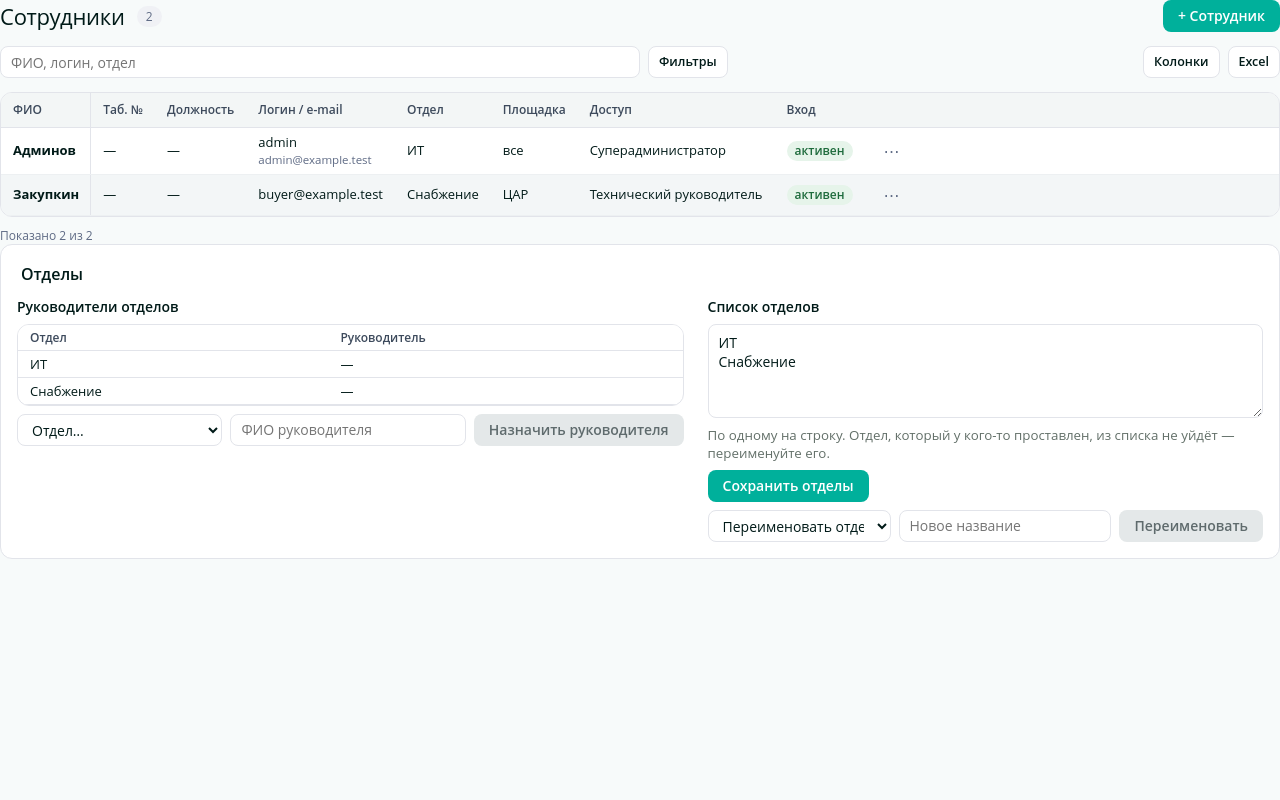
sets a new PIN from the employee form (portalStaffSave pin)
The width and height of the screenshot is (1280, 800).
Click the button named "Действия: Закупкин" at [892, 195], box [876,181,906,209]
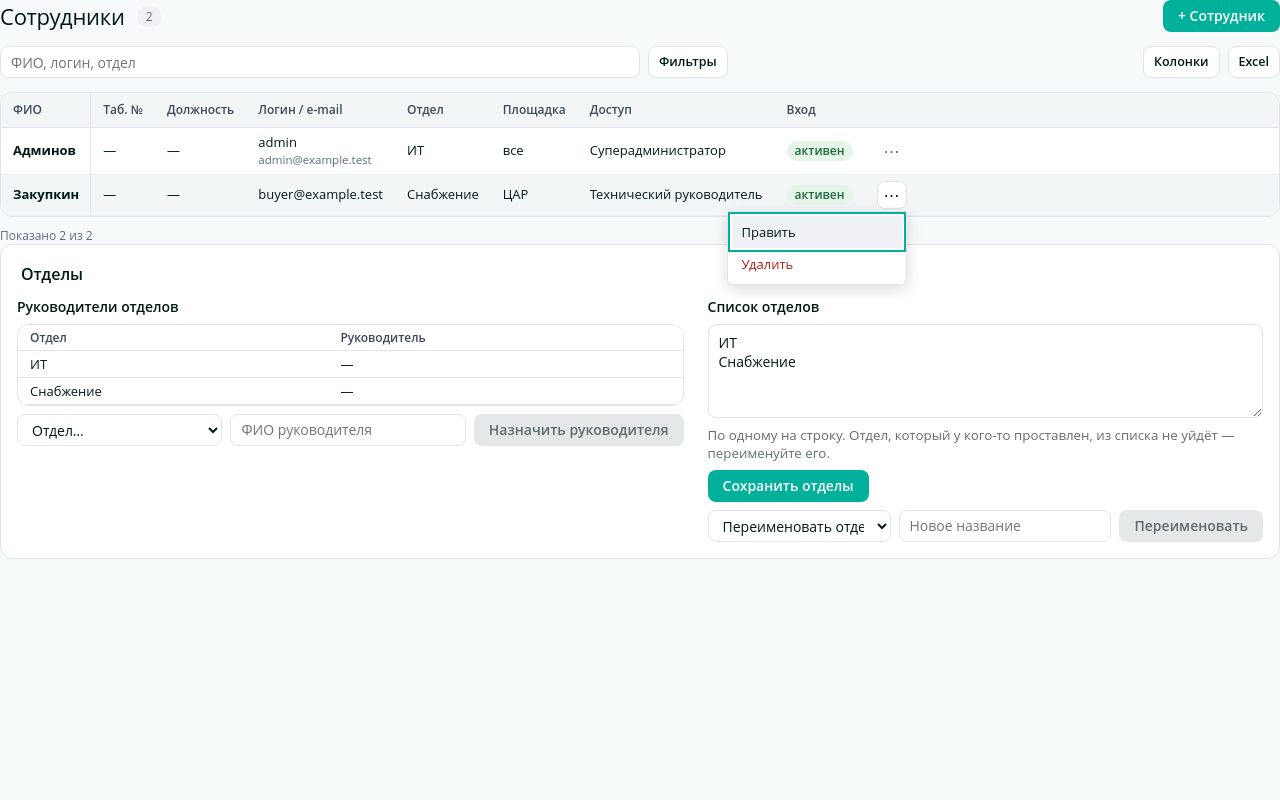
Click the menu item "Править" at [816, 232], box [732,216,902,248]
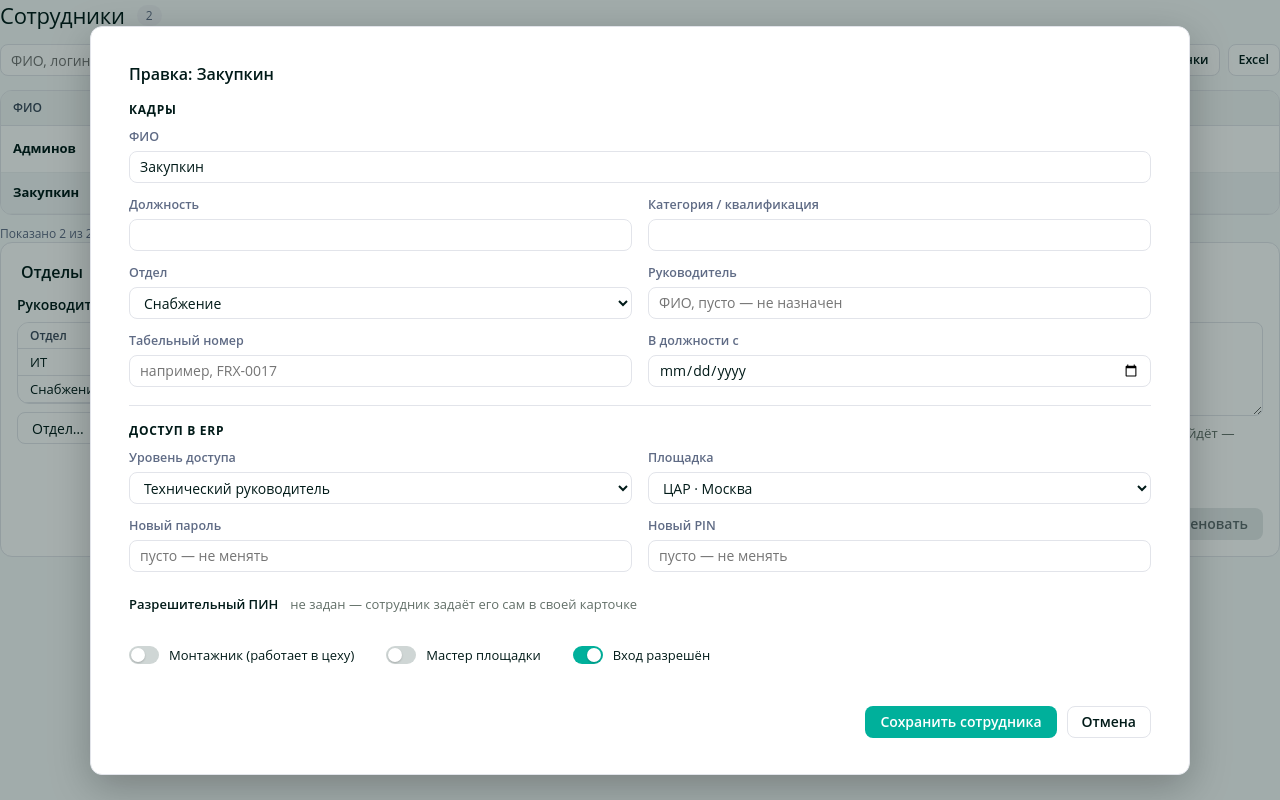
Type "7654321" into the field labelled "Новый PIN" at [900, 556], box [648,540,1151,572]
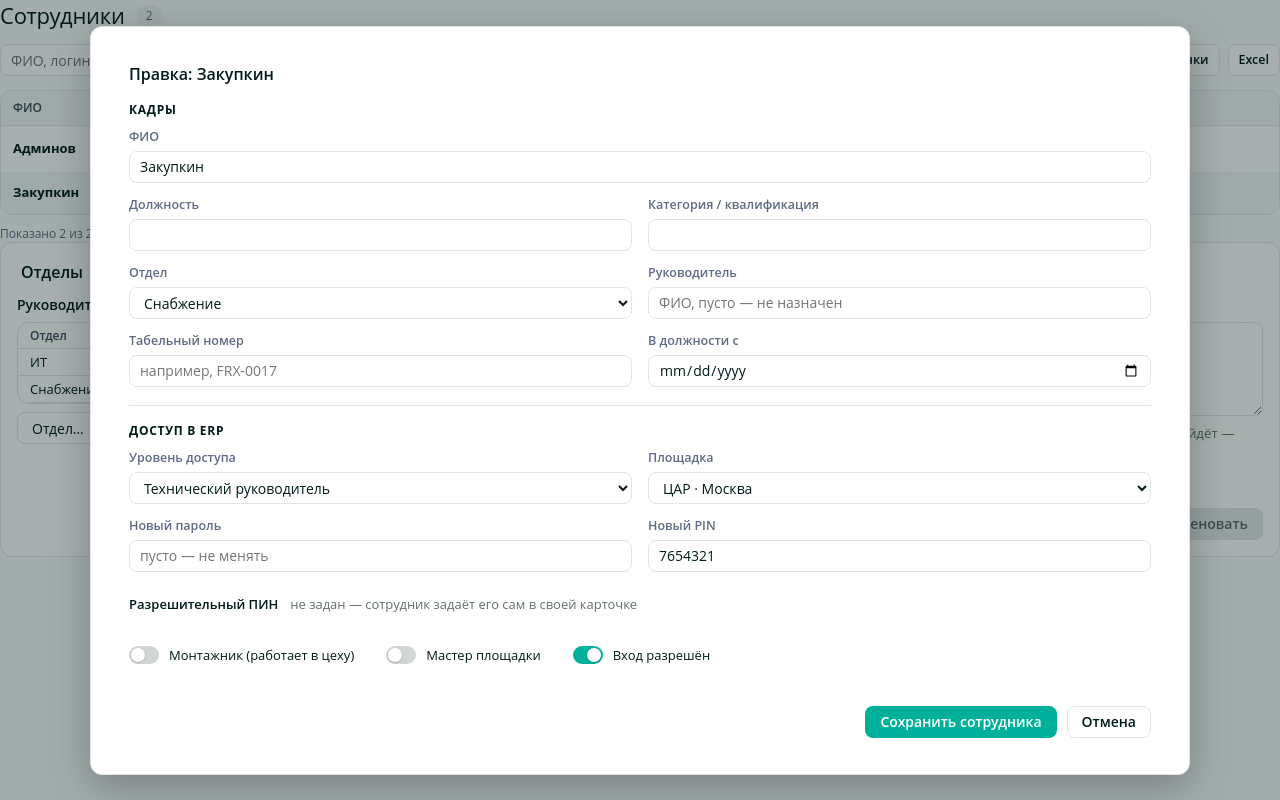
Click the button "Сохранить сотрудника" at [961, 722], box [866,706,1056,738]
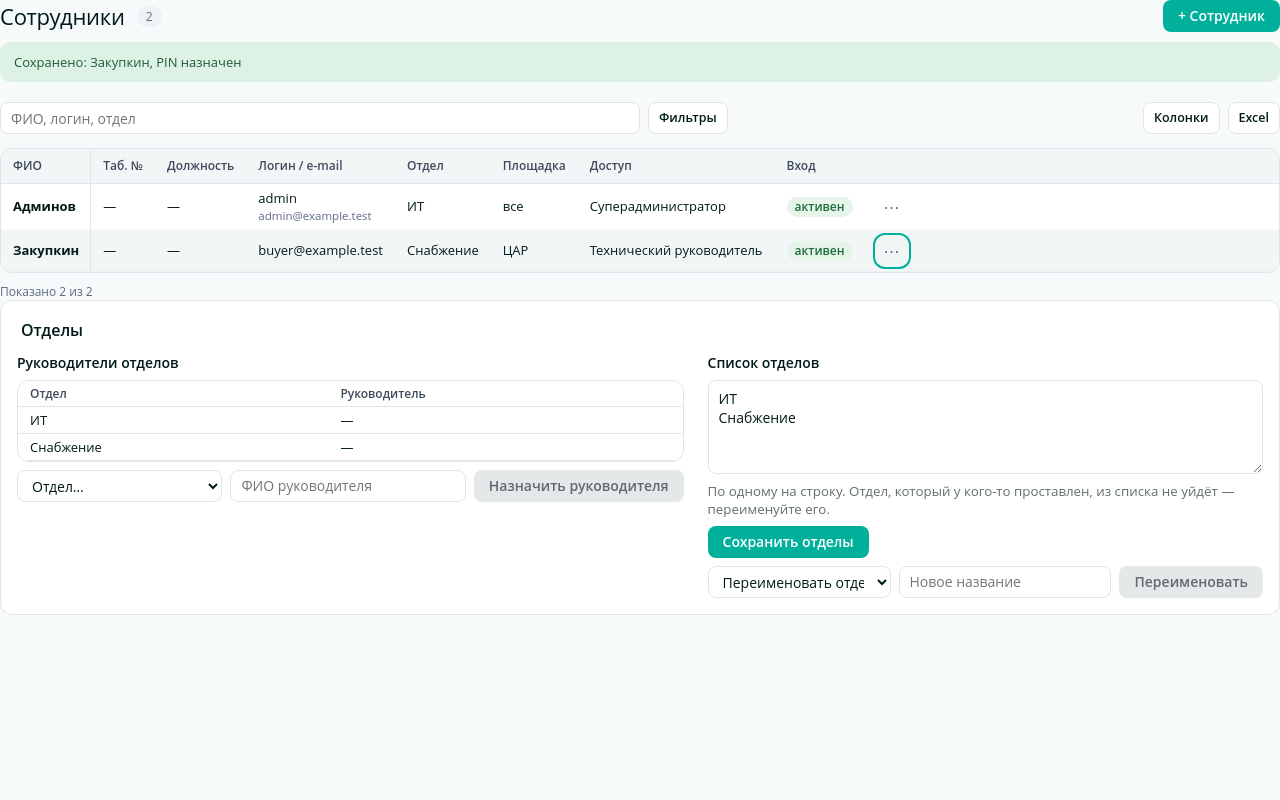
Result: the text "Сохранено: Закупкин, PIN назначен" is shown at [0,42,1279,82]
